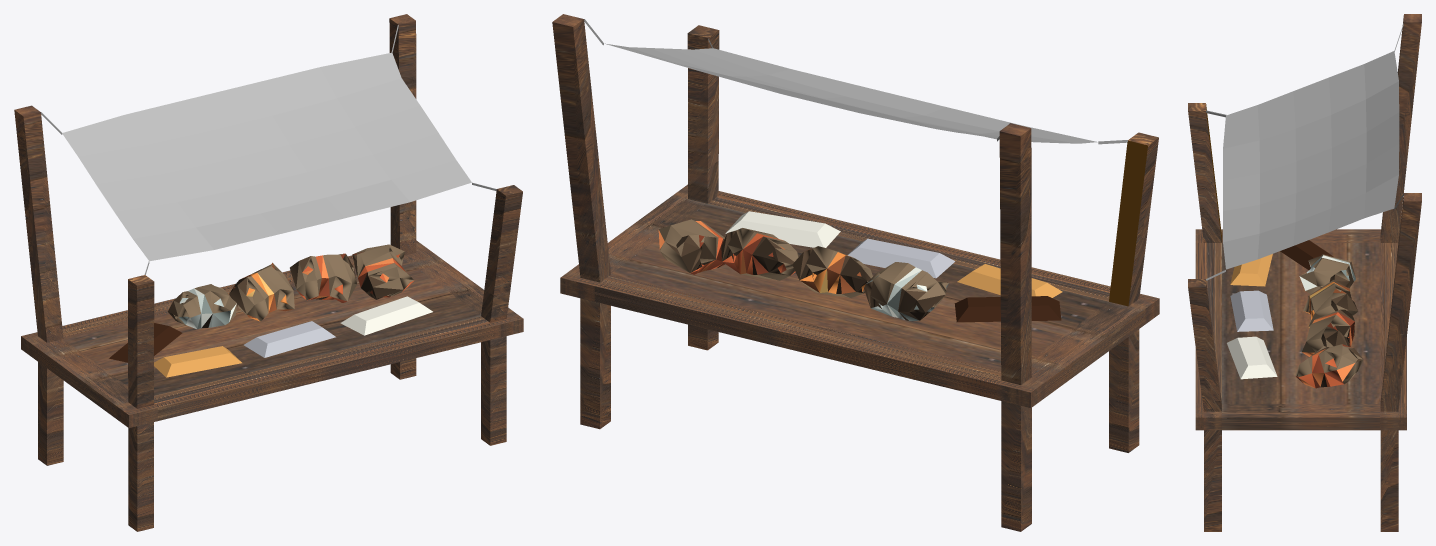
Rendered from low level smithing stall.glb.
3 views of the same model, side by side, from view 1: azimuth 30°, elevation 25°; view 2: azimuth 150°, elevation 25°; view 3: azimuth 270°, elevation 25° (orthographic). The views are drawn at different scales.
Parts seen in each view (by area): view 1: Cube.009; view 2: Cube.009; view 3: Cube.009.
Boxes of the visible parts, <box> form: Cube.009: <box>14,14,523,531</box>; Cube.009: <box>552,14,1159,531</box>; Cube.009: <box>1188,14,1421,531</box>.
Bounding box in the file's own units: 1.9 × 1.58 × 0.9964.
Materials: 28 (1 with a texture image).
